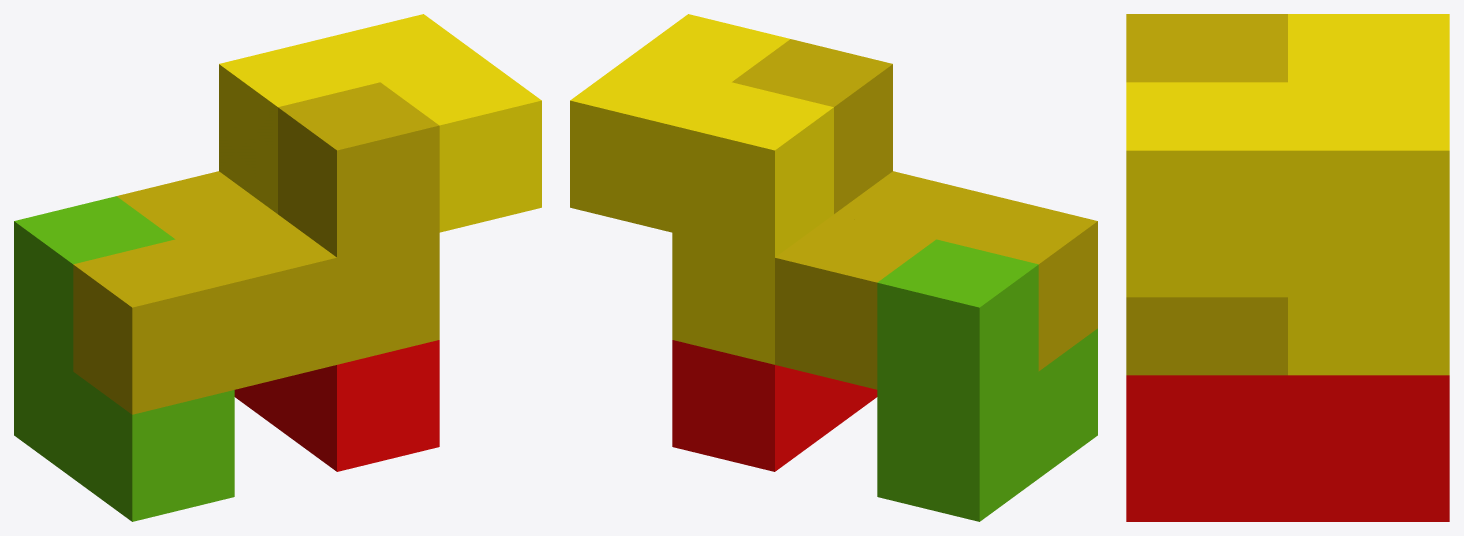
3 views of the same model, side by side, from view 1: azimuth 30°, elevation 25°; view 2: azimuth 150°, elevation 25°; view 3: azimuth 270°, elevation 25° (orthographic). The views are drawn at different scales.
Parts seen in each view (by area): view 1: mergedBlocks(Clone); view 2: mergedBlocks(Clone); view 3: mergedBlocks(Clone).
Part boxes in pixels (left/top/right/bottom): mergedBlocks(Clone): left=14, top=14, right=541, bottom=521; mergedBlocks(Clone): left=570, top=14, right=1097, bottom=521; mergedBlocks(Clone): left=1126, top=14, right=1449, bottom=521.
Bounding box in the file's own units: 4 × 3 × 2.
Materials: 4 (4 with a texture image).
